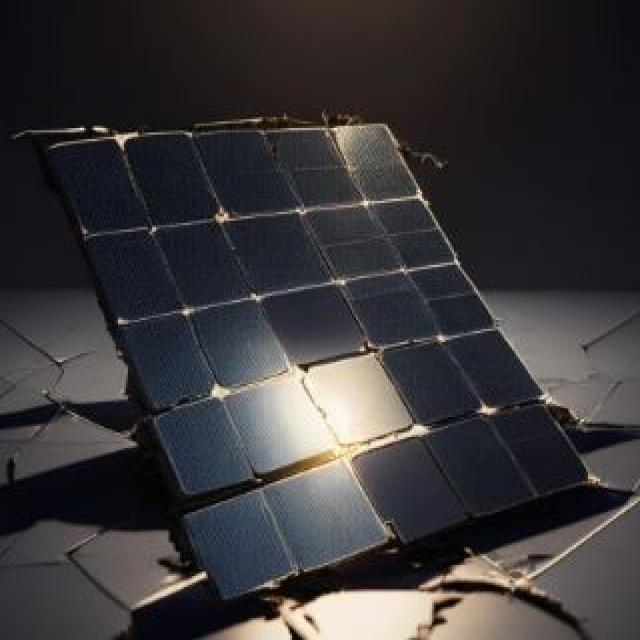faulty: (34, 110, 597, 616)
